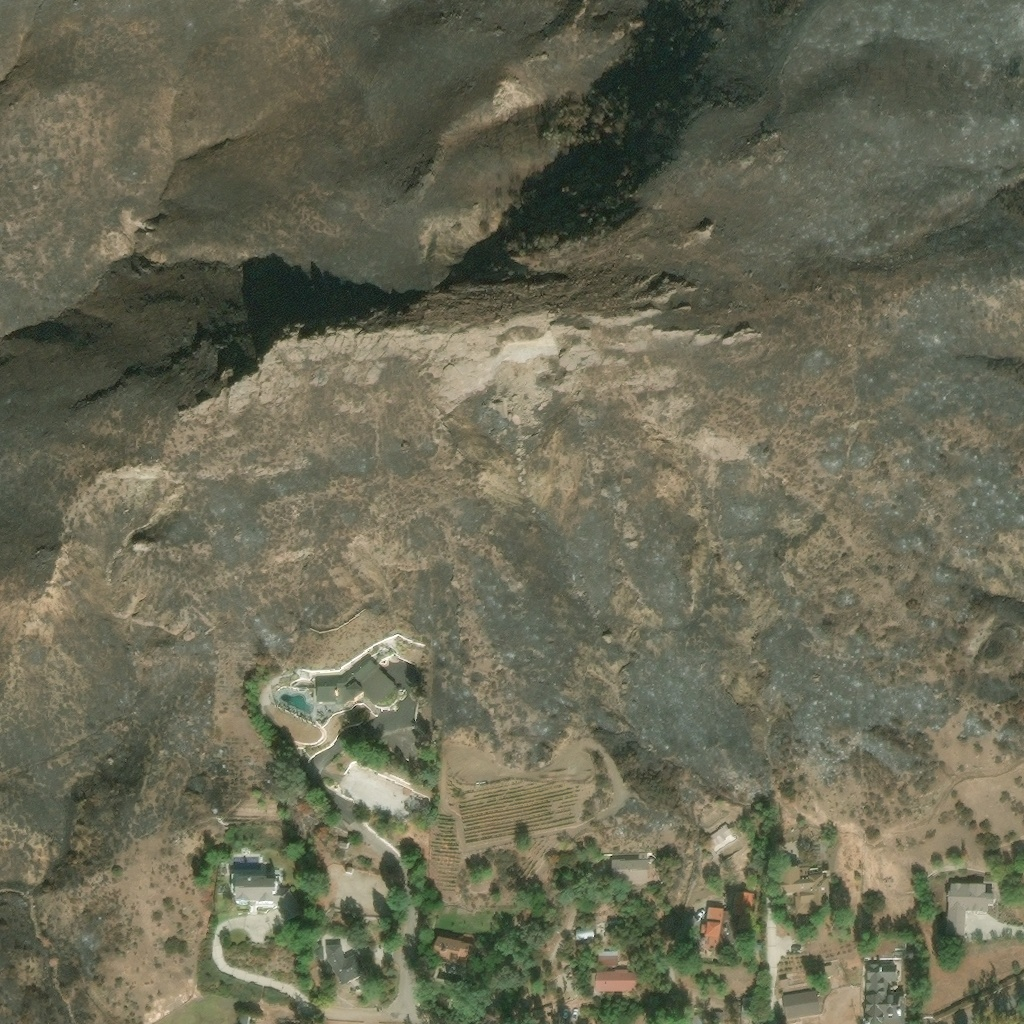0 no-damage: (315, 656, 399, 711), (230, 874, 304, 926), (701, 891, 756, 953), (946, 884, 995, 942), (865, 961, 907, 1023), (781, 870, 832, 919), (327, 944, 368, 987), (431, 936, 475, 971), (586, 970, 636, 996), (783, 990, 821, 1021), (610, 860, 649, 886), (706, 824, 738, 854), (575, 926, 596, 943), (597, 952, 619, 968), (741, 998, 753, 1019), (313, 946, 323, 960), (518, 911, 529, 923), (345, 866, 356, 877), (339, 840, 349, 852), (239, 1014, 252, 1023), (713, 1012, 724, 1022), (695, 1015, 705, 1023)
